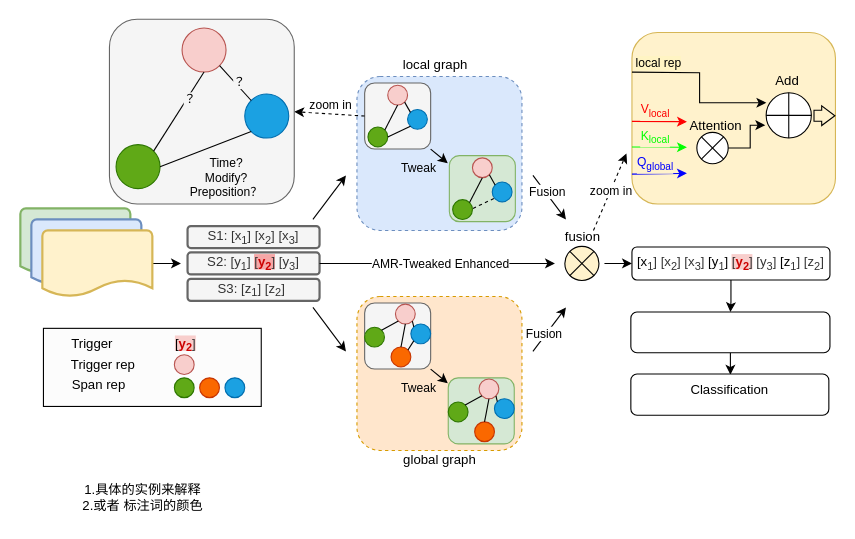
Some shapes in this 855 by 539 pixel diagram are drawn without their labels. The shapes that lost their labels are listed below. From the top down, each one's centre as x and y in pixels, then its label:
the point at 97,263: Document 1
the point at 730,332: Boundary Loss
